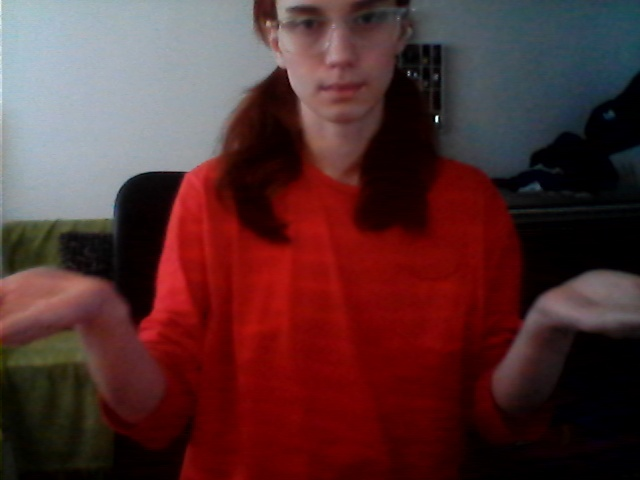alebo: (1, 245, 640, 445)
